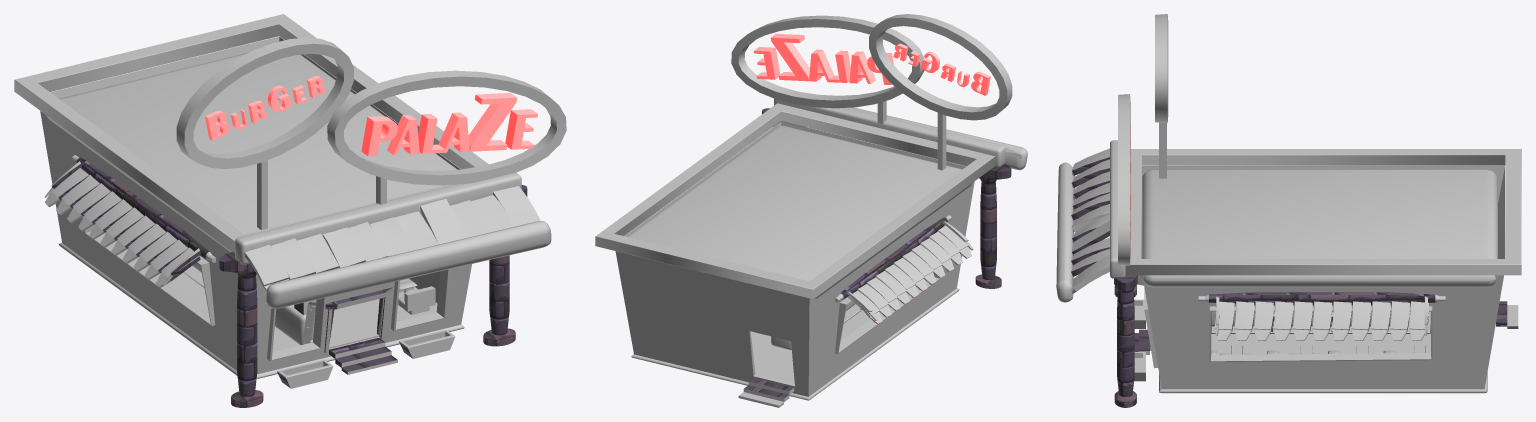
Rendered from BurguerB.fbx.
3 views of the same model, side by side, from view 1: azimuth 30°, elevation 25°; view 2: azimuth 150°, elevation 25°; view 3: azimuth 270°, elevation 25° (orthographic). The views are drawn at different scales.
Visible parts, largest first — view 1: primer_piso; view 2: primer_piso; view 3: primer_piso.
Boxes of the visible parts, <box> form: primer_piso: <box>14,14,566,407</box>; primer_piso: <box>595,14,1027,407</box>; primer_piso: <box>1056,14,1521,407</box>.
Size of the model in its own units: 666 by 578 by 841.
